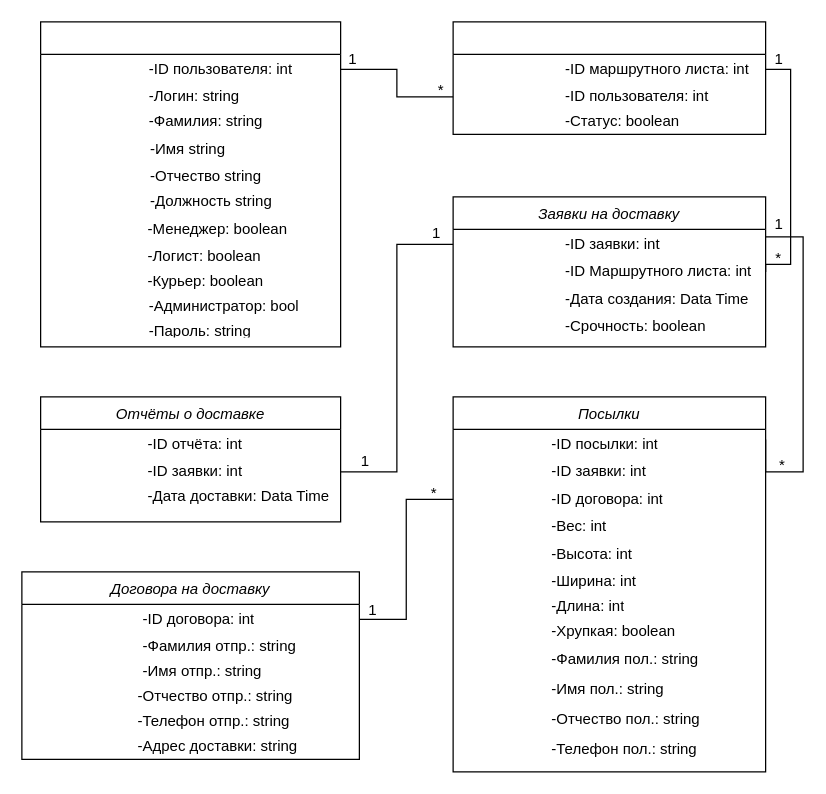
Image size: 826x794. Some labels were removed from this diagram. Each missing label, with the box of its shape:
Маршрутный лист: (452, 21, 766, 134)
Пользователи: (39, 21, 341, 347)
